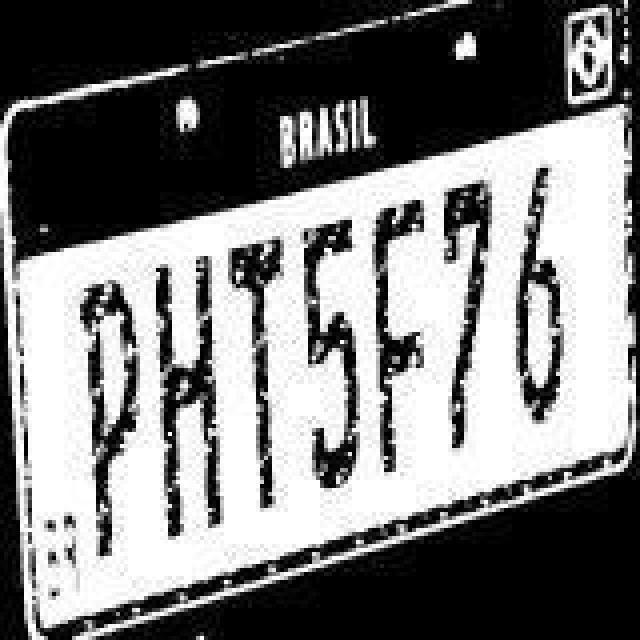5: (300, 222, 364, 498)
6: (504, 164, 568, 420)
7: (434, 178, 502, 454)
F: (366, 202, 434, 486)
H: (150, 252, 226, 532)
P: (74, 278, 142, 562)
T: (228, 232, 300, 504)
